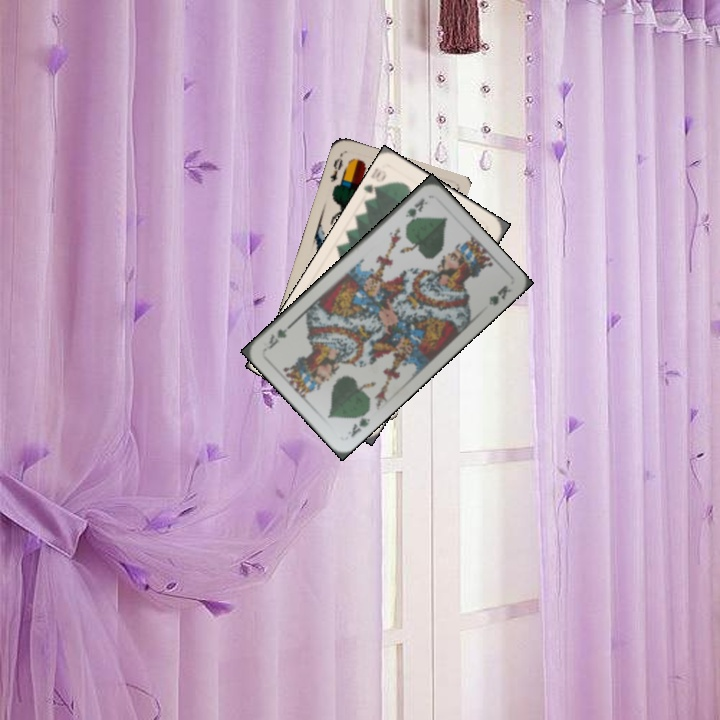EO: (325, 150, 345, 185)
G10: (361, 166, 389, 202)
GK: (401, 194, 430, 228), (344, 406, 373, 440)
